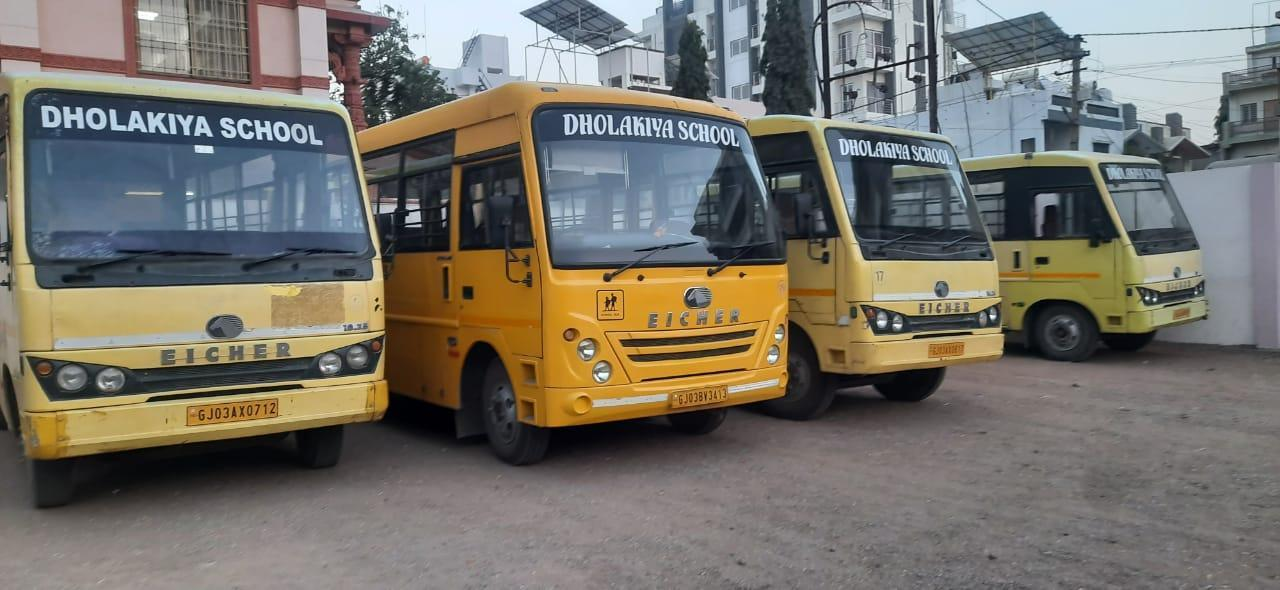Bus: (2, 68, 401, 504), (393, 70, 793, 460), (792, 109, 1012, 410), (1014, 134, 1224, 377)
